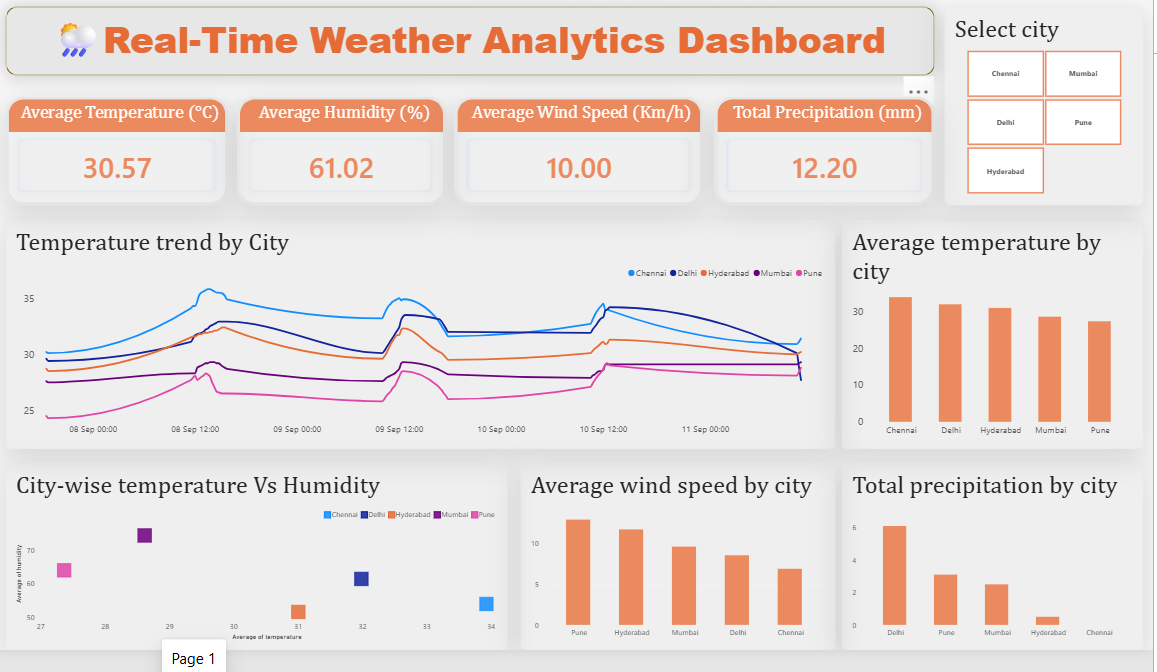

The page's visual inventory and layout, read from the dashboard file:
{"tool":"powerbi","page":{"name":"Page 1","canvas":[1920,1080],"ordinal":0},"visuals":[{"type":"cardVisual","title":"Average Temperature (°C)","fields":{"Data":["public weather_data.Average_temperature"]},"box":[30.9,168.8,366.4,179.1],"z":0},{"type":"textbox","box":[30.9,20.6,1529.3,113.2],"z":1000},{"type":"cardVisual","title":"Average Humidity (%)","fields":{"Data":["public weather_data.Average_humidity"]},"box":[411.7,168.8,343.7,179.1],"z":2000},{"type":"cardVisual","title":"Average Wind Speed (Km/h)","fields":{"Data":["public weather_data.Average_wind_speed"]},"box":[769.8,168.8,409.6,179.1],"z":3000},{"type":"cardVisual","title":"Total Precipitation (mm)","fields":{"Data":["public weather_data.Total_Precipitation"]},"box":[1197.9,168.8,362.3,179.1],"z":4000},{"type":"lineChart","title":"Temperature trend by City","fields":{"Category":["public weather_data.timestamp"],"Series":["public weather_data.city"],"Y":["Avg(public weather_data.temperature)"]},"box":[30.9,372.6,1366.7,376.7],"z":5000},{"type":"clusteredColumnChart","title":"Average temperature by city","fields":{"Category":["public weather_data.city"],"Y":["Avg(public weather_data.temperature)"]},"box":[1407.9,372.6,496.1,376.7],"z":6000},{"type":"scatterChart","title":"City-wise temperature Vs Humidity","fields":{"Series":["public weather_data.city"],"X":["Avg(public weather_data.temperature)"],"Y":["Avg(public weather_data.humidity)"]},"box":[30.9,771.9,827.4,308.7],"z":7000},{"type":"clusteredColumnChart","title":"Average wind speed by city","fields":{"Category":["public weather_data.city"],"Y":["Avg(public weather_data.wind_speed)"]},"box":[878.9,771.9,518.7,308.7],"z":8000},{"type":"clusteredColumnChart","title":"Total precipitation by city","fields":{"Category":["public weather_data.city"],"Y":["Sum(public weather_data.precipitation)"]},"box":[1407.9,771.9,496.1,308.7],"z":9000},{"type":"slicer","title":"Select city","fields":{"Values":["public weather_data.city"]},"box":[1576.7,20.6,327.3,327.3],"z":10000}]}

Visuals, with their boxes on the page's 1920x1080 design canvas (x1, y1, x2, y2). These are canvas units, not pixel positions in the 1157x672 screenshot, which may show the page scaled, cropped or inside an application window:
"Average Temperature (°C)" cardVisual: l=31, t=169, r=397, b=348
textbox: l=31, t=21, r=1560, b=134
"Average Humidity (%)" cardVisual: l=412, t=169, r=755, b=348
"Average Wind Speed (Km/h)" cardVisual: l=770, t=169, r=1179, b=348
"Total Precipitation (mm)" cardVisual: l=1198, t=169, r=1560, b=348
"Temperature trend by City" lineChart: l=31, t=373, r=1398, b=749
"Average temperature by city" clusteredColumnChart: l=1408, t=373, r=1904, b=749
"City-wise temperature Vs Humidity" scatterChart: l=31, t=772, r=858, b=1081
"Average wind speed by city" clusteredColumnChart: l=879, t=772, r=1398, b=1081
"Total precipitation by city" clusteredColumnChart: l=1408, t=772, r=1904, b=1081
"Select city" slicer: l=1577, t=21, r=1904, b=348
